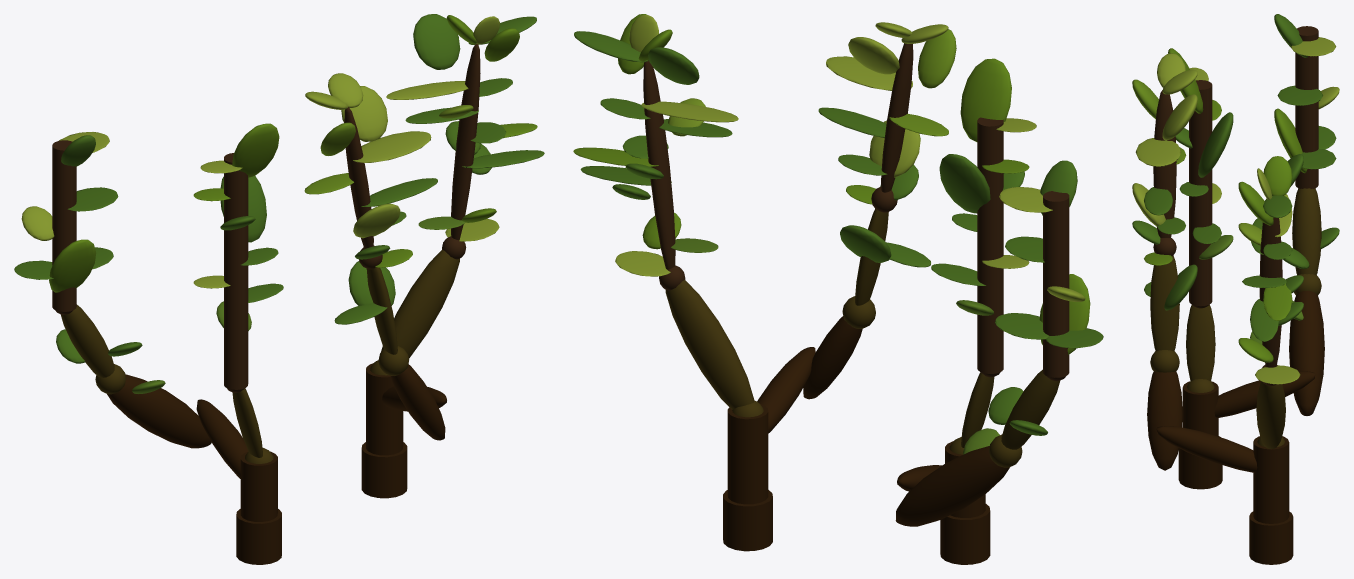
The model's file is CMU3DRMCBushd4.glb.
3 views of the same model, side by side, from view 1: azimuth 30°, elevation 25°; view 2: azimuth 150°, elevation 25°; view 3: azimuth 270°, elevation 25° (orthographic). The views are drawn at different scales.
Visible parts, largest first — view 1: visible stem 0 section 2, visible stem 1 section 0, visible stem 2 section 1, visible stem 1 section 2, visible stem 2 section 2, visible stem 2 section 0, visible stem 0 section 0, rounded root base 2, rounded root base 0, source leaf patch 22, visible stem 3 section 0, visible stem 1 section 1 (+24 smaller); view 2: visible stem 0 section 2, visible stem 2 section 1, visible stem 1 section 0, visible stem 1 section 2, visible stem 2 section 0, visible stem 2 section 2, source leaf patch 0, rounded root base 2, rounded root base 0, visible stem 3 section 2, visible stem 3 section 0, fork depth rising branch 3 (+31 smaller); view 3: visible stem 0 section 2, visible stem 1 section 0, visible stem 2 section 0, visible stem 3 section 0, visible stem 1 section 2, fork depth rising branch 3, visible stem 3 section 1, visible stem 1 section 1, visible stem 0 section 1, rounded root base 2, visible stem 2 section 1, fork depth rising branch 1 (+44 smaller).
Boxes of the visible parts, x1,y1,x2,y2 form: visible stem 0 section 2: (224, 153, 248, 389); visible stem 1 section 0: (107, 374, 211, 448); visible stem 2 section 1: (381, 249, 459, 358); visible stem 1 section 2: (52, 140, 76, 311); visible stem 2 section 2: (451, 44, 480, 240); visible stem 2 section 0: (366, 363, 403, 455); visible stem 0 section 0: (240, 451, 277, 521); rounded root base 2: (361, 442, 407, 498); rounded root base 0: (236, 509, 281, 564); source leaf patch 22: (413, 14, 460, 69); visible stem 3 section 0: (391, 364, 445, 440); visible stem 1 section 1: (60, 304, 114, 377); visible stem 0 section 2: (977, 117, 1003, 373); visible stem 2 section 1: (665, 280, 754, 409); visible stem 1 section 0: (895, 446, 1009, 526); visible stem 1 section 2: (1043, 191, 1069, 377); visible stem 2 section 0: (727, 404, 768, 504); visible stem 2 section 2: (643, 60, 675, 269); source leaf patch 0: (960, 58, 1011, 141); rounded root base 2: (723, 490, 772, 551); rounded root base 0: (940, 504, 990, 564); visible stem 3 section 2: (881, 43, 913, 192); visible stem 3 section 0: (803, 316, 862, 399); fork depth rising branch 3: (757, 347, 815, 433); visible stem 0 section 2: (1189, 80, 1212, 306); visible stem 1 section 0: (1289, 291, 1324, 415); visible stem 2 section 0: (1253, 436, 1289, 523); visible stem 3 section 0: (1147, 371, 1182, 470); visible stem 1 section 2: (1295, 26, 1318, 188); fork depth rising branch 3: (1156, 426, 1257, 472); visible stem 3 section 1: (1150, 255, 1179, 351); visible stem 1 section 1: (1292, 188, 1321, 274); visible stem 0 section 1: (1186, 305, 1215, 380); rounded root base 2: (1249, 511, 1293, 564); visible stem 2 section 1: (1256, 381, 1285, 448); fork depth rising branch 1: (1214, 371, 1315, 417).
Bounding box in the file's own units: 0.6762 × 0.5992 × 0.2537.
